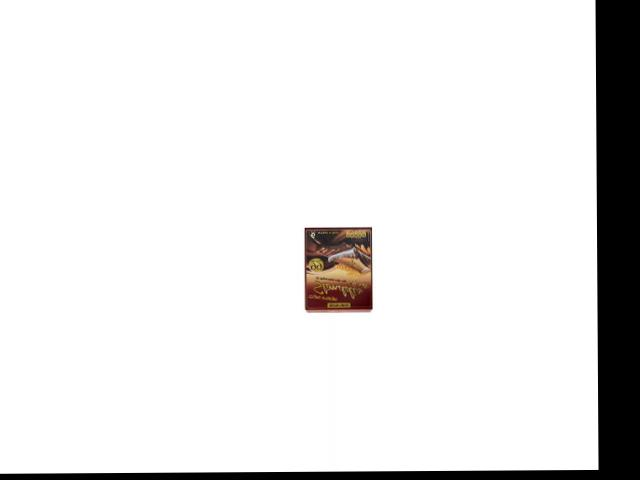chocolate: (304, 226, 372, 312)
